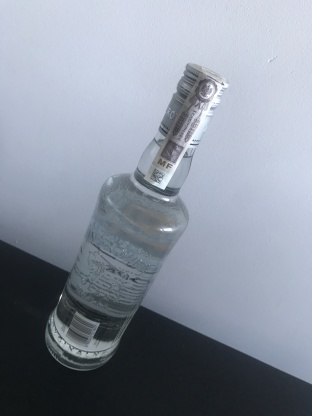nakretka: (156, 58, 231, 151)
